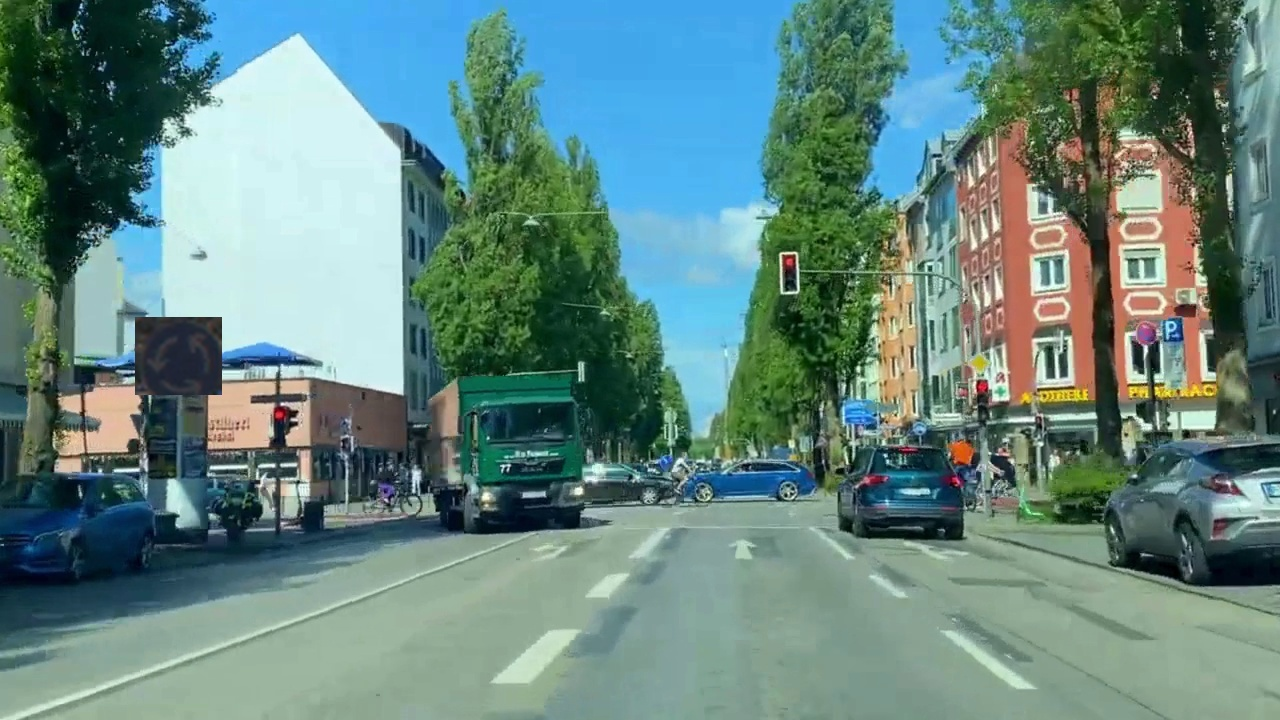Roundabout: (135, 317, 222, 395)
